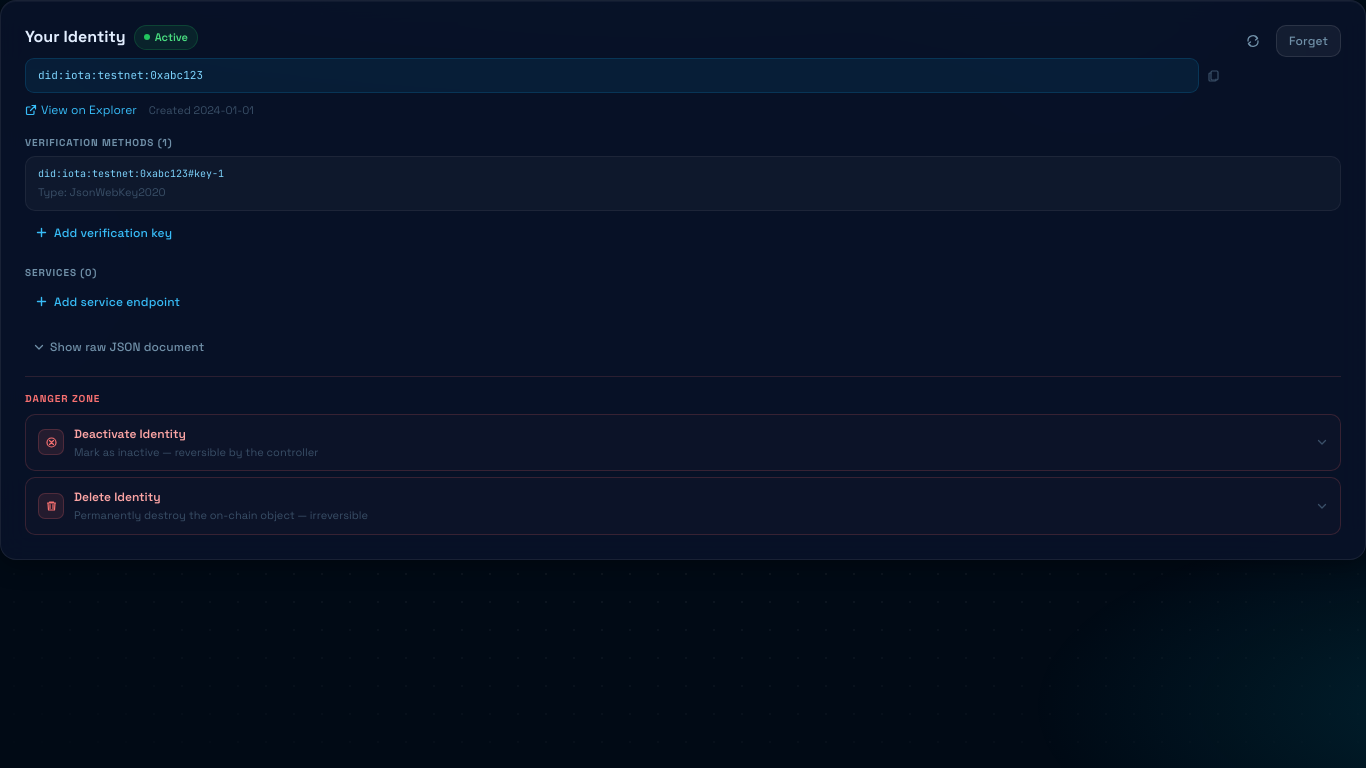
Test case: IdentityDashboard — Danger Zone › clicking the Deactivate row opens its accordion panel
Click the button "Deactivate Identity".
click(130, 434)  # box [26,415,1340,470]
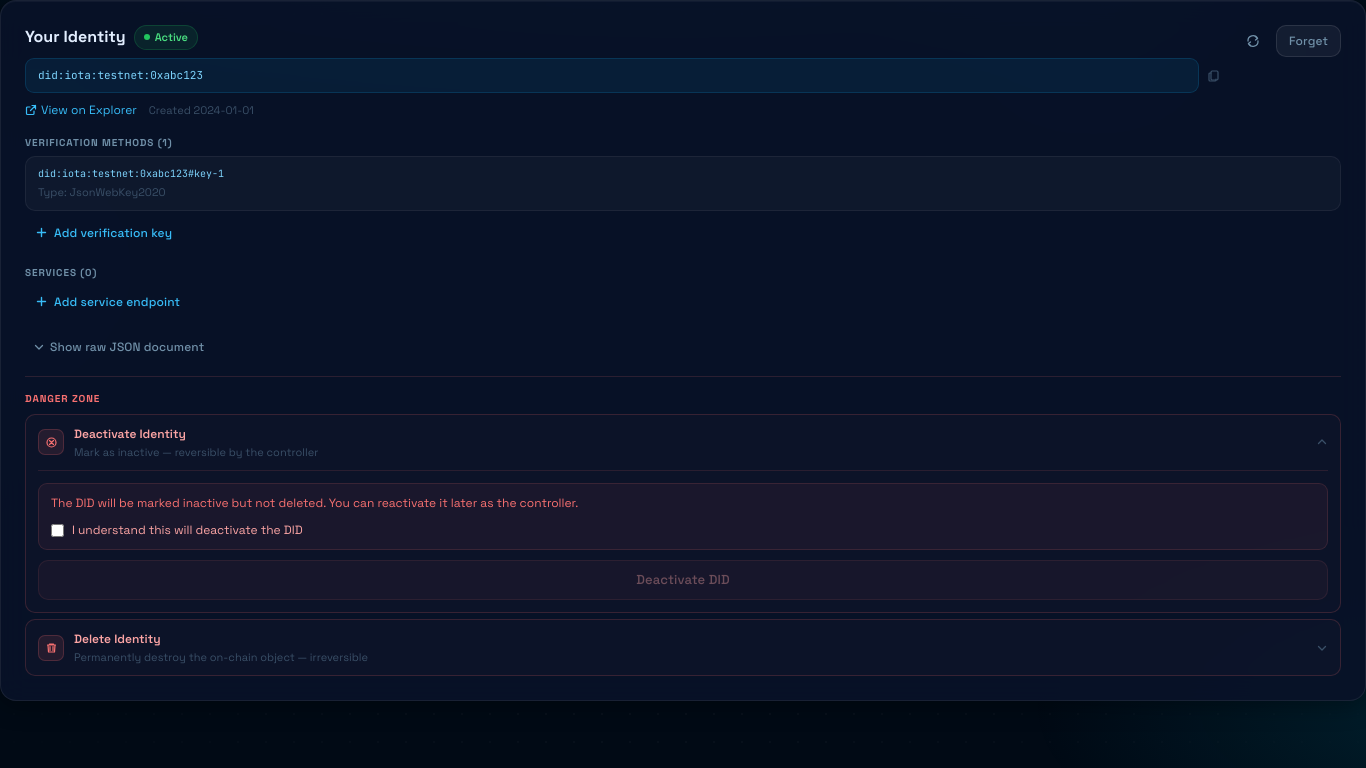
Expected: the text "I understand this will deactivate the DID" is shown, [51,522,303,538]
